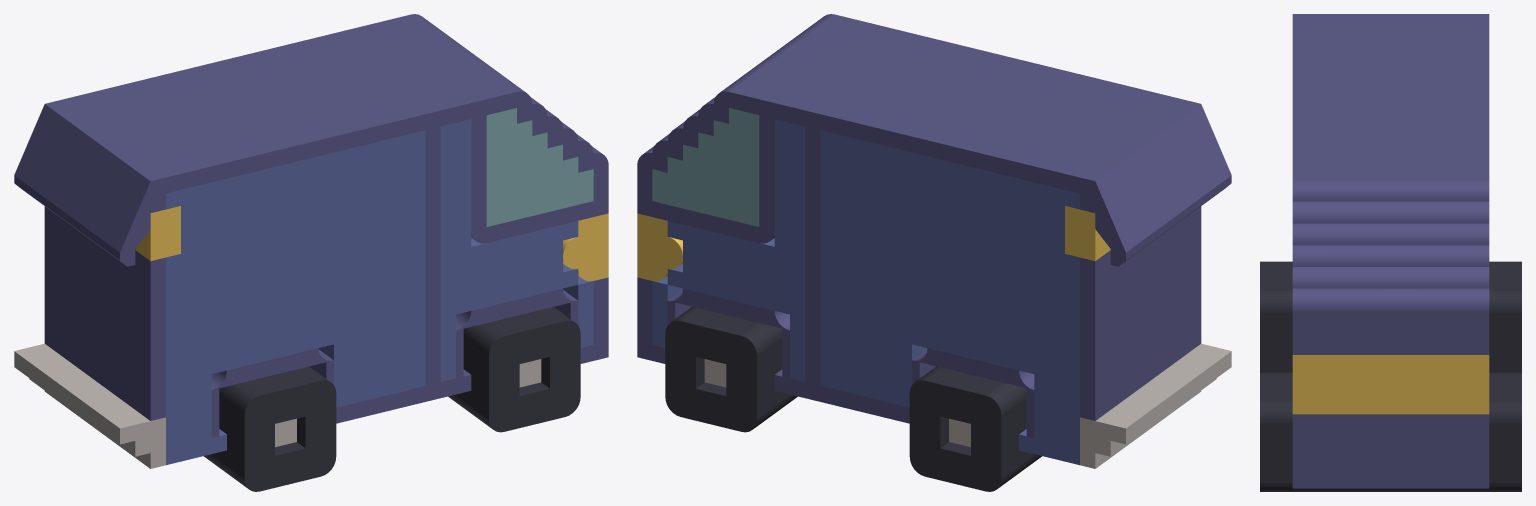
The model's file is truck.glb.
The picture shows the model from 3 angles, left to right: view 1: azimuth 30°, elevation 25°; view 2: azimuth 150°, elevation 25°; view 3: azimuth 270°, elevation 25°; orthographic projection. The views are drawn at different scales.
Visible parts, largest first — view 1: generated(Clone); view 2: generated(Clone); view 3: generated(Clone).
Part boxes in pixels (box(x1,y1,x2,y2)): generated(Clone): box(14, 14, 608, 491); generated(Clone): box(637, 14, 1231, 491); generated(Clone): box(1260, 14, 1521, 491).
Size of the model in its own units: 40 by 25 by 20.
Materials: 1 (1 with a texture image).
